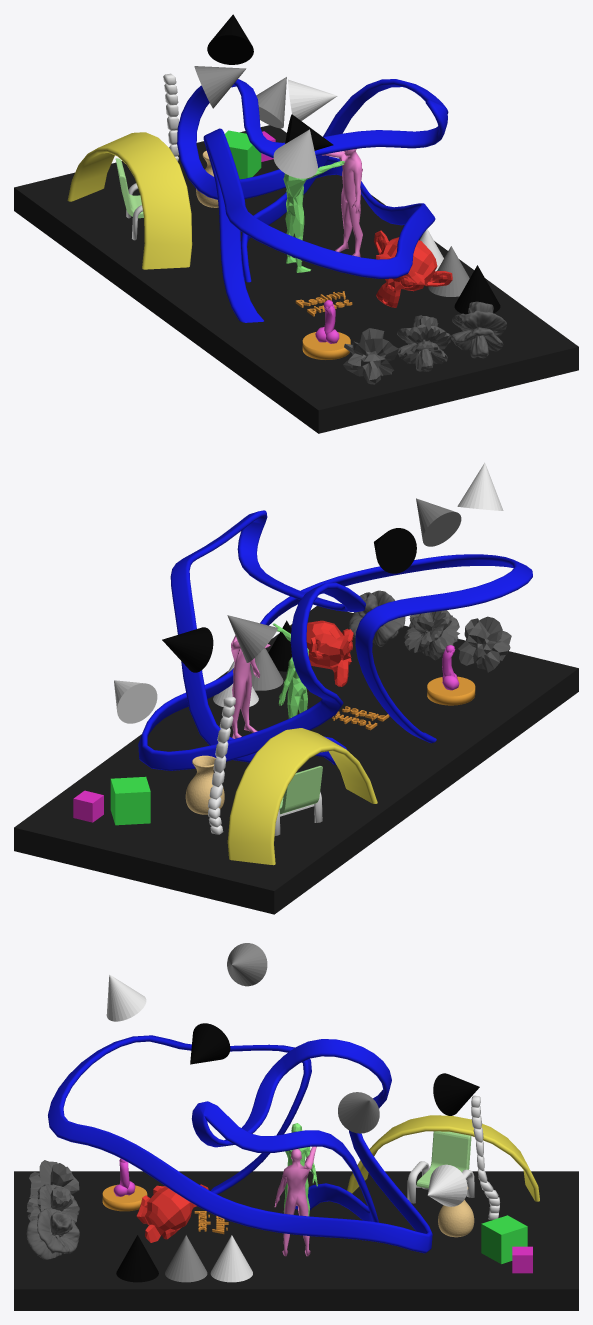
3 renders of one model, top to bottom at view 1: azimuth 30°, elevation 25°; view 2: azimuth 150°, elevation 25°; view 3: azimuth 270°, elevation 25°, orthographic. The views are drawn at different scales.
Parts seen in each view (by area): view 1: Main_Base, BezierCurve, BezierCurve.001, Suzanne, Icosphere.002, Icosphere.001, Icosphere, man_free-2.001, man_free-2, Cone.006, Cone.003, Cone.007 (+11 smaller); view 2: Main_Base, BezierCurve, BezierCurve.001, Suzanne, Icosphere, Icosphere.001, Cube.001, Cube, man_free-2.001, Cone.008, Cone.005, Cone.003 (+12 smaller); view 3: Main_Base, BezierCurve, BezierCurve.001, Suzanne, Icosphere.002, man_free-2.001, Cube.001, Cube.003, Cone.007, Cone.004, Cone.005, Cone.008 (+13 smaller).
Boxes of the visible parts, x1,y1,x2,y2 form: Main_Base: [14, 125, 578, 433]; BezierCurve: [177, 79, 448, 322]; BezierCurve.001: [67, 132, 192, 269]; Suzanne: [374, 230, 452, 307]; Icosphere.002: [451, 301, 506, 358]; Icosphere.001: [397, 315, 451, 371]; Icosphere: [343, 328, 398, 384]; man_free-2.001: [322, 149, 362, 257]; man_free-2: [283, 161, 344, 272]; Cone.006: [273, 129, 317, 178]; Cone.003: [207, 14, 253, 64]; Cone.007: [194, 66, 246, 108]; Main_Base: [14, 606, 578, 914]; BezierCurve: [138, 510, 532, 770]; BezierCurve.001: [227, 728, 377, 865]; Suzanne: [306, 620, 353, 686]; Icosphere: [458, 616, 511, 672]; Icosphere.001: [404, 610, 459, 660]; Cube.001: [110, 776, 150, 825]; Cube: [208, 696, 235, 834]; man_free-2.001: [231, 635, 270, 738]; Cone.008: [374, 528, 416, 573]; Cone.005: [114, 680, 157, 723]; Cone.003: [162, 627, 213, 672]; Main_Base: [14, 1171, 578, 1310]; BezierCurve: [48, 1035, 432, 1253]; BezierCurve.001: [347, 1115, 539, 1201]; Suzanne: [136, 1184, 208, 1242]; Icosphere.002: [26, 1208, 79, 1259]; man_free-2.001: [274, 1146, 316, 1256]; Cube.001: [481, 1215, 527, 1264]; Cube.003: [416, 1131, 471, 1188]; Cone.007: [227, 943, 267, 986]; Cone.004: [338, 1092, 379, 1133]; Cone.005: [427, 1164, 467, 1206]; Cone.008: [190, 1023, 230, 1064].
Size of the model in its own units: 5.27 by 4.98 by 10.13.
